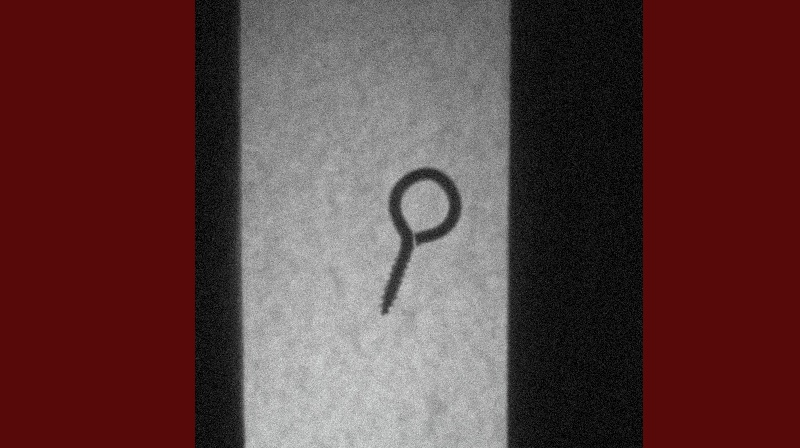O001: (375, 162, 464, 318)
